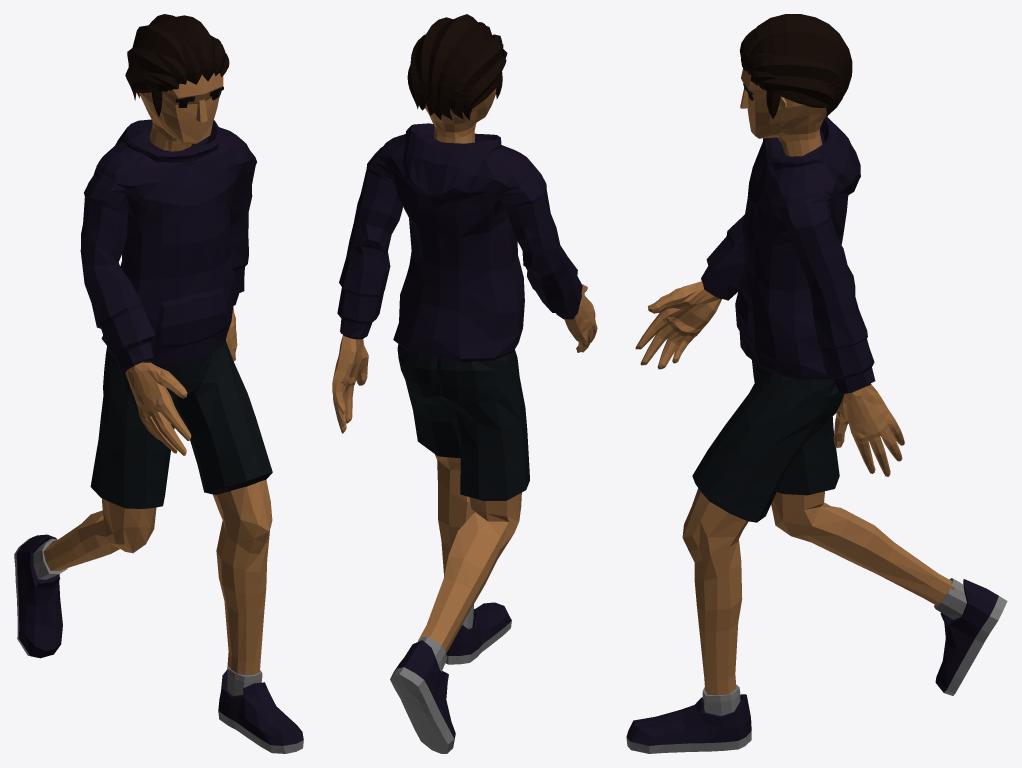
The model's file is hoodie.obj.
3 views of the same model, side by side, from view 1: azimuth 30°, elevation 25°; view 2: azimuth 150°, elevation 25°; view 3: azimuth 270°, elevation 25° (orthographic). The views are drawn at different scales.
Parts seen in each view (by area): view 1: part_1, part_9, part_8, part_2, part_7, part_4, part_0, part_3; view 2: part_1, part_9, part_8, part_7, part_3, part_2, part_0, part_4; view 3: part_1, part_8, part_9, part_7, part_0, part_2, part_3, part_4.
Part boxes in pixels (x1=…): part_1: x1=80, y1=119, x2=256, y2=372; part_9: x1=90, y1=341, x2=272, y2=508; part_8: x1=43, y1=480, x2=272, y2=675; part_2: x1=16, y1=534, x2=303, y2=745; part_7: x1=125, y1=14, x2=229, y2=116; part_4: x1=139, y1=73, x2=223, y2=151; part_0: x1=125, y1=307, x2=237, y2=455; part_3: x1=14, y1=538, x2=303, y2=753; part_1: x1=337, y1=123, x2=582, y2=362; part_9: x1=397, y1=344, x2=529, y2=500; part_8: x1=418, y1=454, x2=521, y2=653; part_7: x1=407, y1=14, x2=507, y2=120; part_3: x1=390, y1=604, x2=511, y2=753; part_2: x1=394, y1=602, x2=511, y2=745; part_0: x1=332, y1=284, x2=597, y2=433; part_4: x1=425, y1=88, x2=496, y2=143; part_1: x1=701, y1=116, x2=875, y2=393; part_8: x1=682, y1=488, x2=955, y2=695; part_9: x1=692, y1=360, x2=844, y2=522; part_7: x1=740, y1=14, x2=852, y2=118; part_0: x1=635, y1=281, x2=904, y2=476; part_2: x1=626, y1=579, x2=998, y2=745; part_3: x1=626, y1=578, x2=1007, y2=753; part_4: x1=740, y1=68, x2=826, y2=156.
Size of the model in its own units: 0.5302 by 1.8 by 0.8742.
